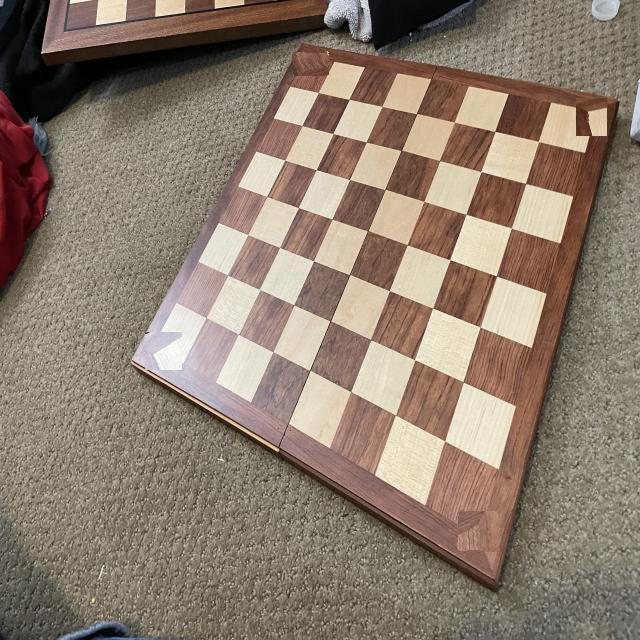chess-table-corners: (458, 511, 500, 552), (145, 332, 182, 370), (576, 98, 607, 136), (293, 51, 329, 76)
